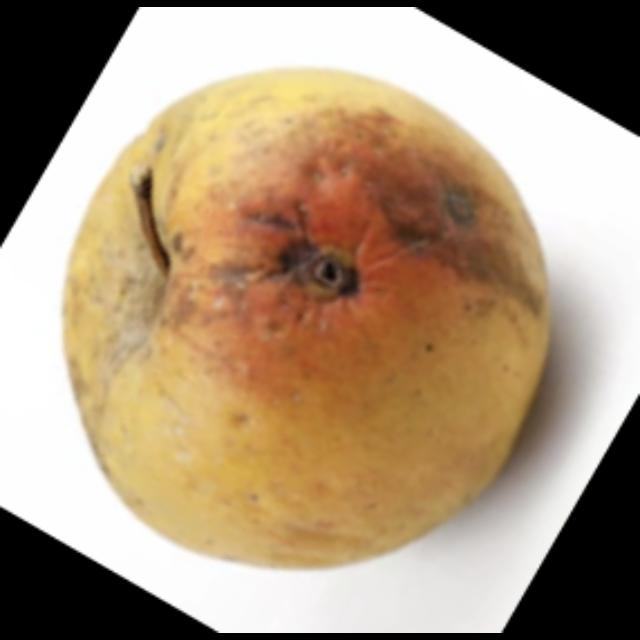Apel Tidak Segar: (68, 68, 545, 559)
